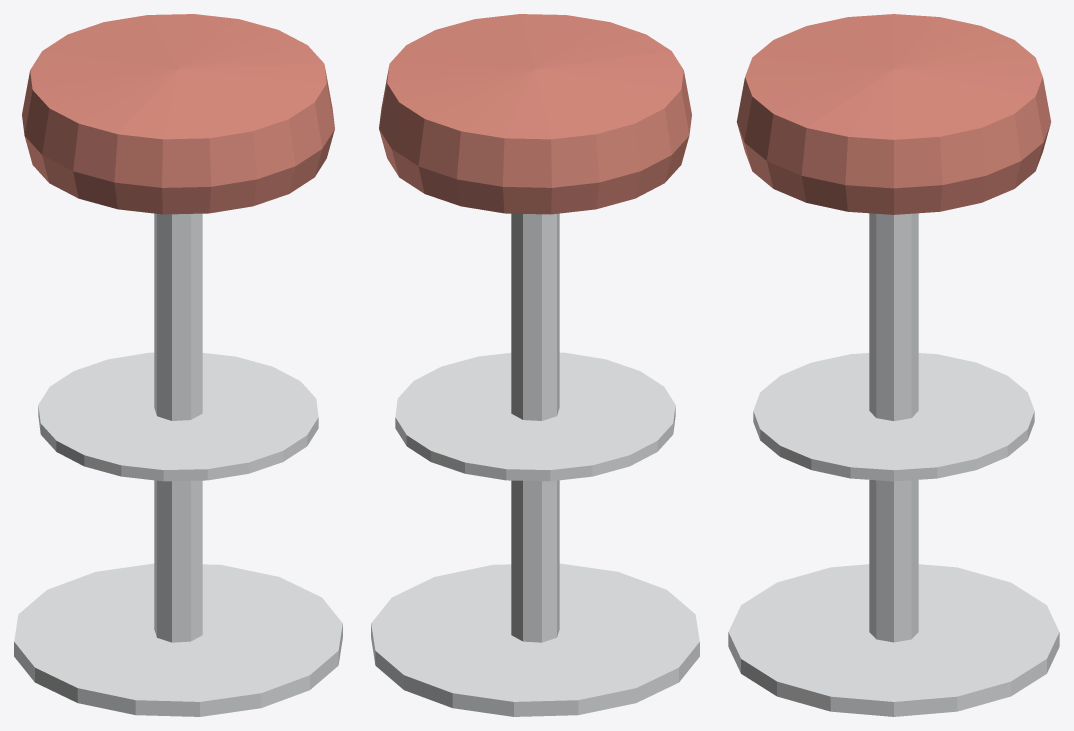
Rendered from stool.glb.
The picture shows the model from 3 angles, left to right: view 1: azimuth 30°, elevation 25°; view 2: azimuth 150°, elevation 25°; view 3: azimuth 270°, elevation 25°; orthographic projection.
Parts seen in each view (by area): view 1: stool_chrome, stool_vinyl_r; view 2: stool_chrome, stool_vinyl_r; view 3: stool_chrome, stool_vinyl_r.
Part boxes in pixels (left/top/right/bottom): stool_chrome: left=14, top=213, right=342, bottom=716; stool_vinyl_r: left=22, top=14, right=334, bottom=214; stool_chrome: left=371, top=213, right=699, bottom=716; stool_vinyl_r: left=379, top=14, right=691, bottom=214; stool_chrome: left=728, top=213, right=1059, bottom=716; stool_vinyl_r: left=736, top=14, right=1051, bottom=214.
Bounding box in the file's own units: 0.4 × 0.77 × 0.4.
